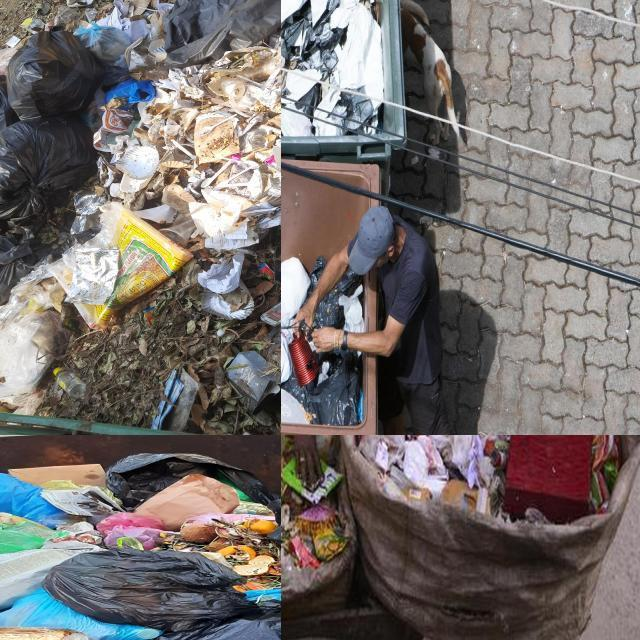Cig_pack: (261, 302, 281, 326)
Disposable: (207, 47, 281, 108), (193, 112, 241, 163), (193, 113, 241, 164), (202, 282, 254, 320), (130, 39, 168, 80), (115, 146, 159, 180), (139, 89, 173, 125), (159, 215, 197, 247), (161, 183, 195, 214), (200, 160, 232, 188), (260, 164, 281, 197), (239, 129, 266, 153), (161, 149, 191, 168), (147, 121, 166, 149), (236, 75, 266, 90), (130, 0, 152, 16), (227, 159, 260, 168), (260, 125, 281, 139), (67, 0, 95, 7), (134, 127, 149, 139)
Garbage: (0, 0, 281, 435), (0, 454, 281, 640), (349, 435, 622, 522), (281, 0, 384, 135), (281, 254, 361, 426), (313, 272, 364, 333)
Glass_bottle: (54, 367, 86, 399)
Plastic: (288, 333, 319, 386), (0, 627, 89, 640), (295, 82, 322, 118)
Plastic_Bag: (0, 231, 118, 403), (42, 548, 255, 631), (73, 202, 194, 332), (357, 435, 510, 509), (0, 116, 98, 219), (106, 453, 278, 511), (6, 30, 103, 120), (0, 589, 164, 640), (163, 0, 281, 67), (74, 24, 156, 104), (283, 350, 361, 426), (147, 600, 281, 640), (0, 473, 70, 528), (66, 248, 120, 305), (0, 229, 38, 306), (314, 270, 361, 329), (98, 513, 164, 550), (0, 520, 69, 554), (281, 258, 310, 325), (338, 285, 365, 333), (214, 470, 253, 501), (313, 526, 347, 559), (183, 513, 275, 525), (281, 388, 308, 425), (308, 256, 327, 297), (233, 501, 275, 516), (39, 479, 92, 490), (244, 589, 281, 601), (86, 511, 111, 525), (0, 513, 31, 524), (100, 488, 120, 502), (112, 186, 117, 190)
Plastic_wraper: (281, 458, 342, 504), (590, 435, 620, 513), (71, 194, 106, 234), (258, 264, 275, 282), (144, 307, 157, 326)
Tetrapack: (227, 351, 280, 414)
Thermocol: (272, 193, 281, 196)
